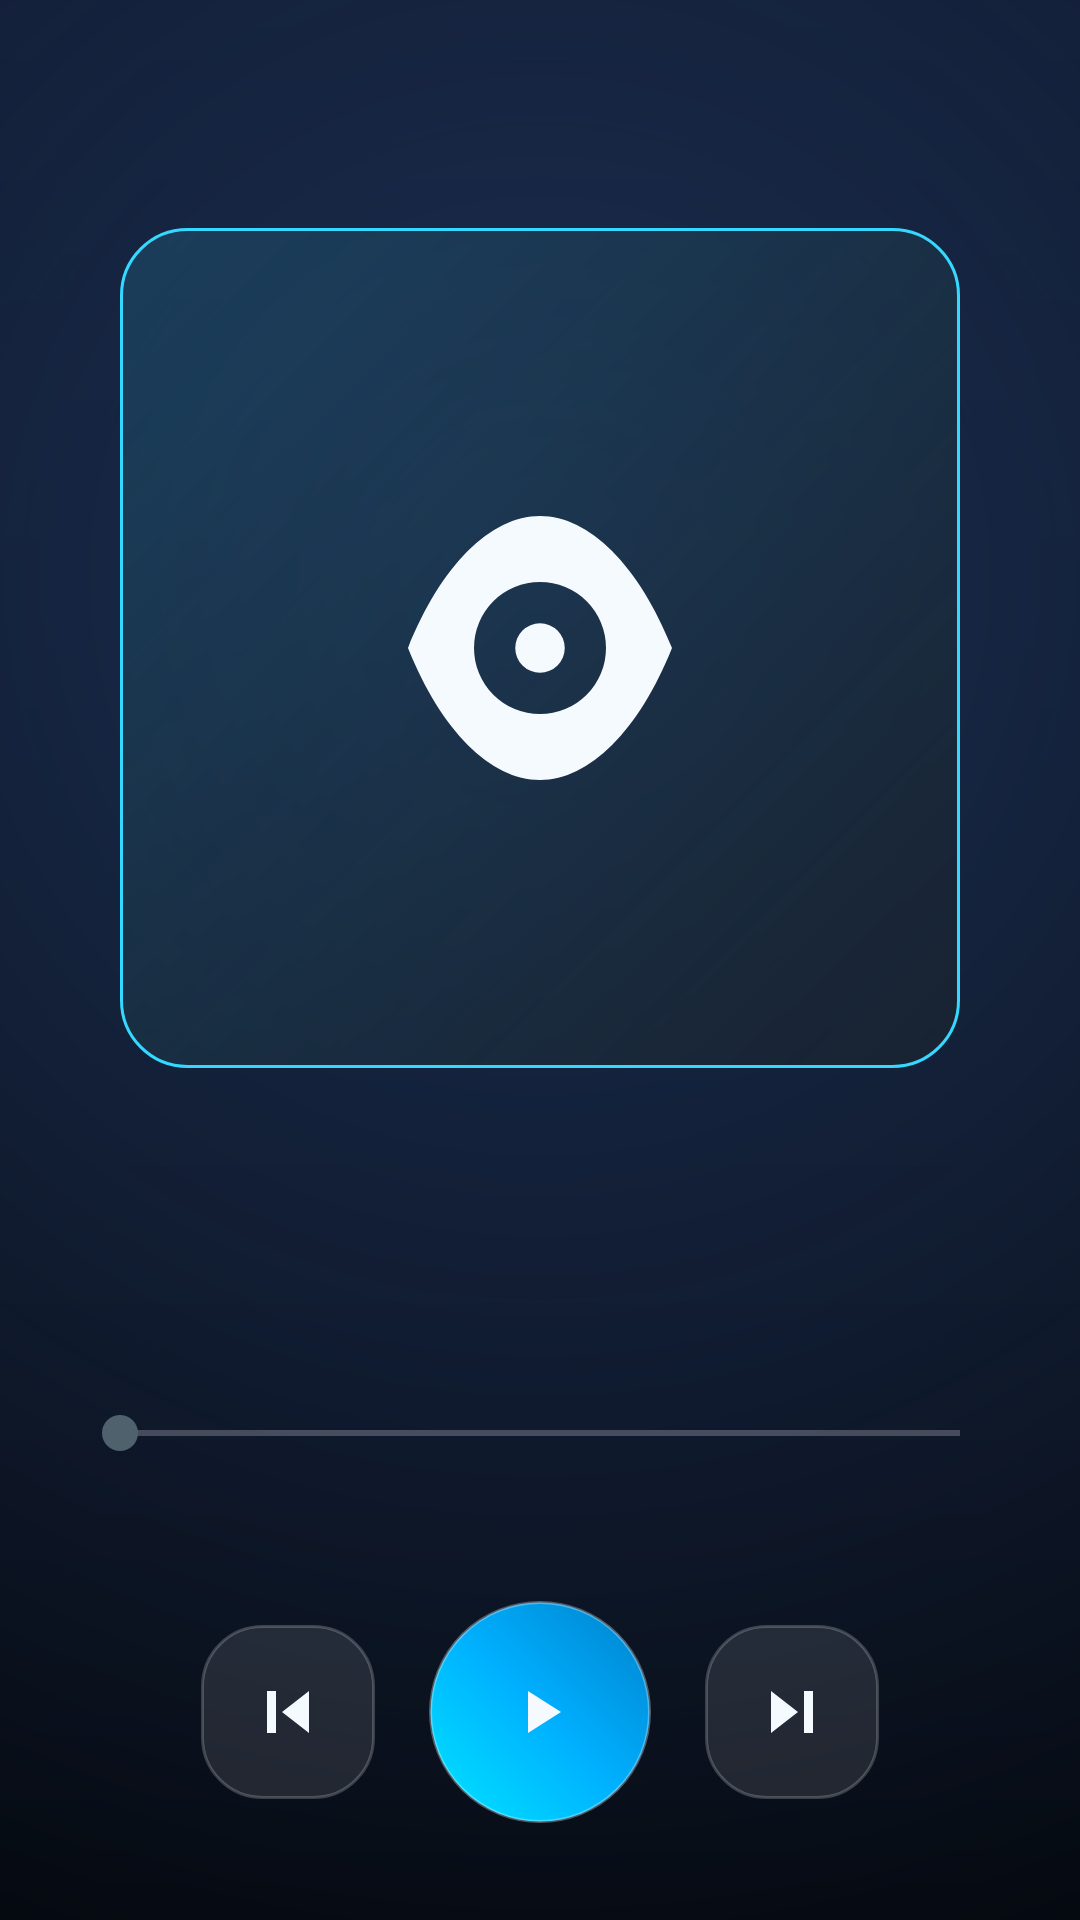

Screen size 1080 x 1920. Icon name, then its center in pixels as (x,y):
Next: (792,1712)
Play: (540,1712)
Previous: (288,1712)
